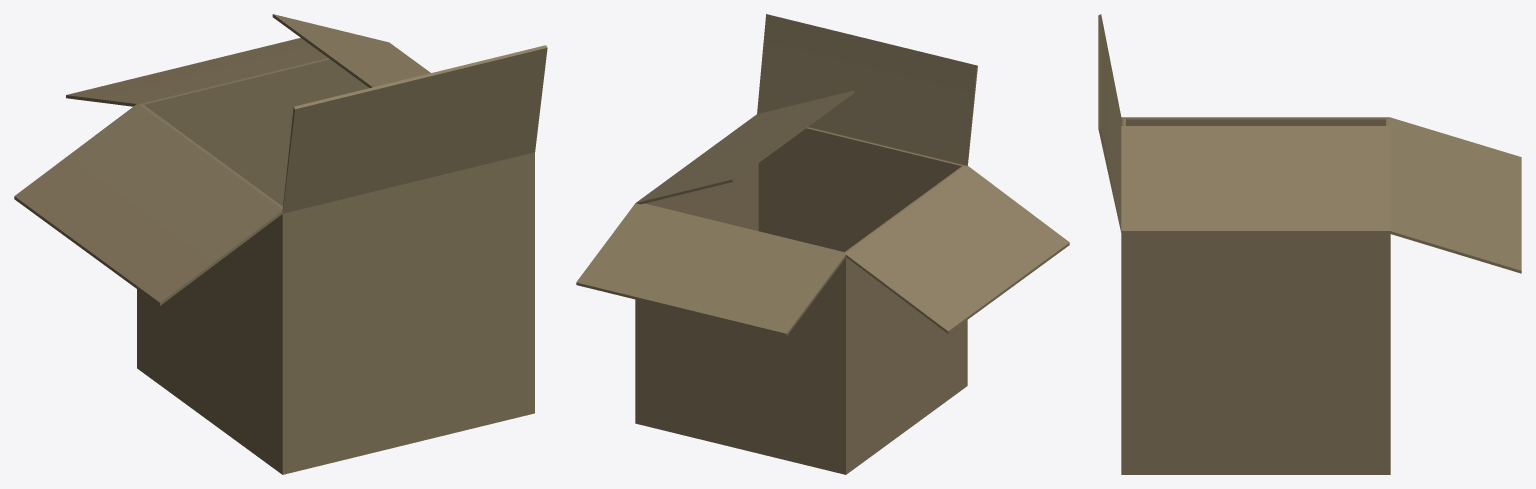
The picture shows the model from 3 angles, left to right: view 1: azimuth 30°, elevation 25°; view 2: azimuth 150°, elevation 25°; view 3: azimuth 270°, elevation 25°; orthographic projection. The views are drawn at different scales.
Parts seen in each view (by area): view 1: pCube2; view 2: pCube2; view 3: pCube2.
Boxes of the visible parts, x1=… form: pCube2: x1=14, y1=14, x2=547, y2=474; pCube2: x1=576, y1=14, x2=1069, y2=474; pCube2: x1=1098, y1=14, x2=1521, y2=474.
Size of the model in its own units: 1.49 by 1.42 by 1.57.
